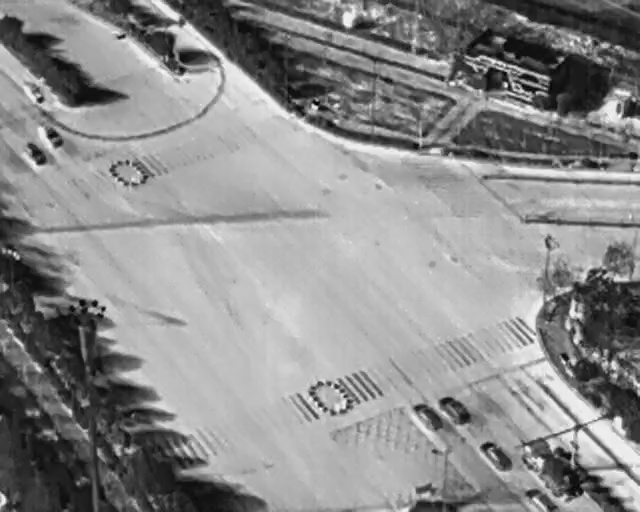Car: (434, 389, 475, 429), (477, 437, 516, 474), (411, 398, 445, 434), (19, 137, 50, 170), (34, 119, 65, 152), (18, 74, 48, 106), (524, 489, 560, 511)
